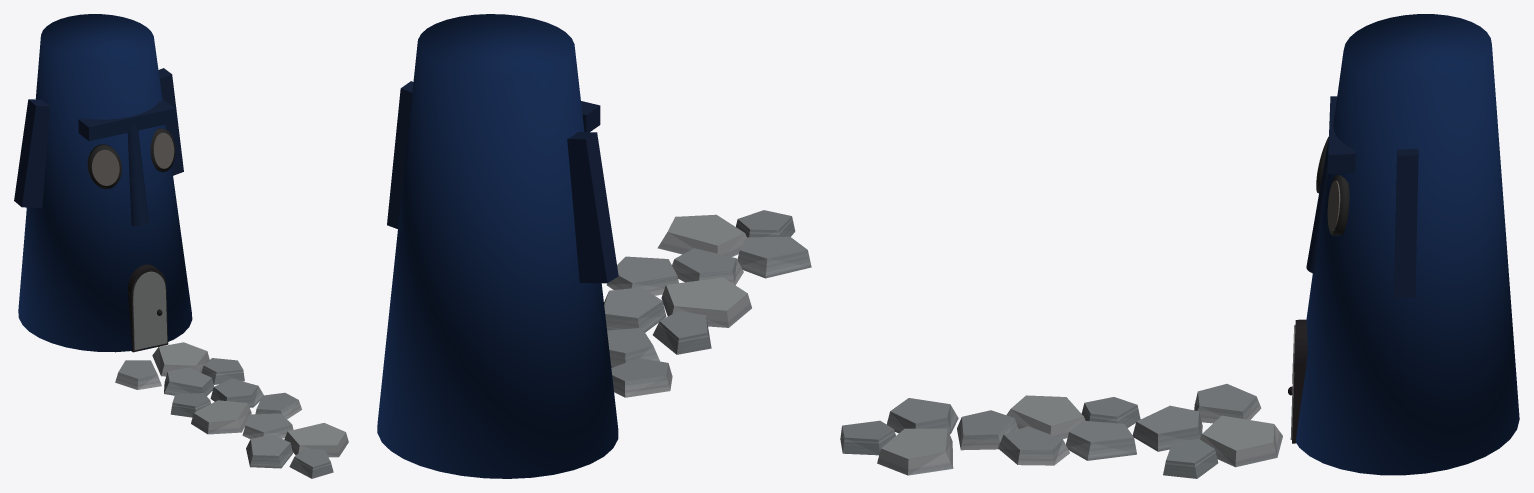
The model's file is squidward_house.obj.
3 renders of one model, left to right at view 1: azimuth 30°, elevation 25°; view 2: azimuth 150°, elevation 25°; view 3: azimuth 270°, elevation 25°, orthographic. The views are drawn at different scales.
Parts seen in each view (by area): view 1: mff_stone_path_0_0.001; view 2: mff_stone_path_0_0.001; view 3: mff_stone_path_0_0.001.
Part boxes in pixels (x1,y1,x2,y2): mff_stone_path_0_0.001: (14,14,348,478); mff_stone_path_0_0.001: (377,14,811,478); mff_stone_path_0_0.001: (840,14,1519,478).
Size of the model in its own units: 3.03 by 5.27 by 8.23.
Materials: 8 (1 with a texture image).
